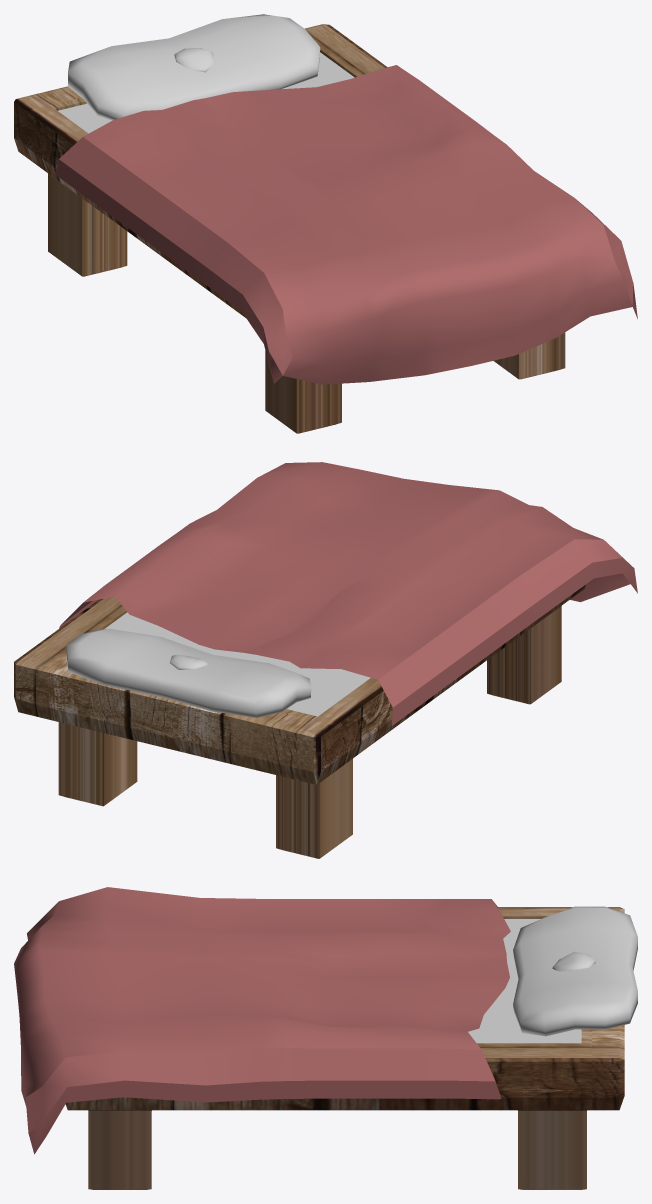
Rendered from my_red_bed.fbx.
3 renders of one model, top to bottom at view 1: azimuth 30°, elevation 25°; view 2: azimuth 150°, elevation 25°; view 3: azimuth 270°, elevation 25°, orthographic. The views are drawn at different scales.
Visible parts, largest first — view 1: pPlane1, polySurface2, polySurface1, polySurface3; view 2: pPlane1, polySurface2, polySurface1, polySurface3; view 3: pPlane1, polySurface2, polySurface1, polySurface3.
Boxes of the visible parts, x1,y1,x2,y2 form: pPlane1: [55, 65, 637, 384]; polySurface2: [14, 24, 565, 433]; polySurface1: [68, 14, 320, 120]; polySurface3: [58, 52, 354, 133]; pPlane1: [59, 462, 637, 725]; polySurface2: [14, 585, 585, 858]; polySurface1: [66, 628, 311, 717]; polySurface3: [104, 612, 370, 716]; pPlane1: [14, 887, 510, 1154]; polySurface2: [65, 907, 624, 1189]; polySurface1: [513, 906, 637, 1036]; polySurface3: [468, 919, 581, 1043].
Bounding box in the file's own units: 22.08 × 10.04 × 32.58.
